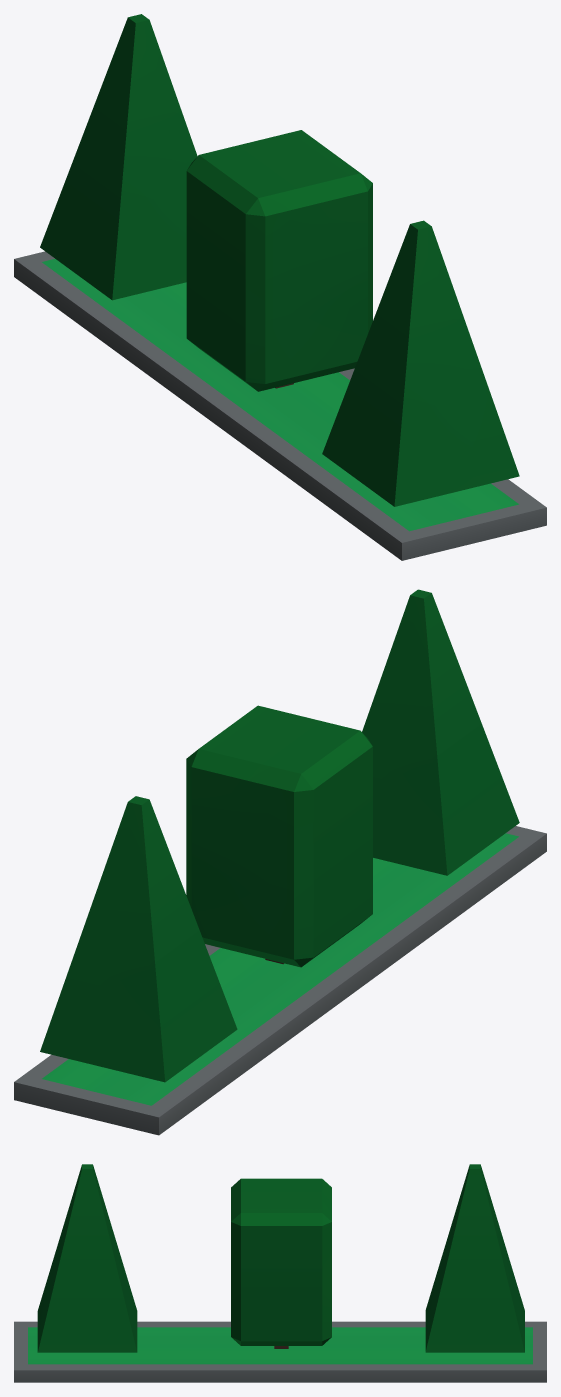
Rendered from fir tree group 2.fbx.
3 views of the same model, one above another, from view 1: azimuth 30°, elevation 25°; view 2: azimuth 150°, elevation 25°; view 3: azimuth 270°, elevation 25° (orthographic). The views are drawn at different scales.
Parts seen in each view (by area): view 1: fir tree group 2; view 2: fir tree group 2; view 3: fir tree group 2.
Part boxes in pixels (x1,y1,x2,y2): fir tree group 2: [14, 14, 546, 560]; fir tree group 2: [14, 589, 546, 1135]; fir tree group 2: [14, 1164, 546, 1382].
Size of the model in its own units: 169 by 310 by 782.
1 material, 1 textured.
